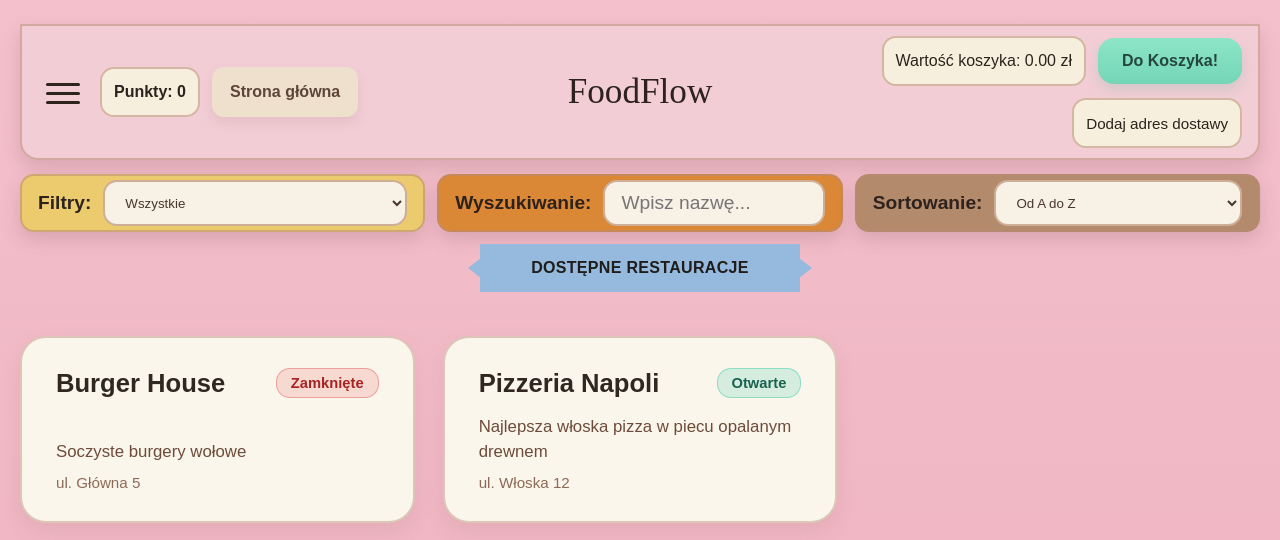
Scenario: HomeScreen Component › filters restaurants by status
Check: the text "Pizzeria Napoli" is shown, box [479,368,659,398]
Check: the text "Burger House" is shown, box [56,368,225,398]
Select "Tylko otwarte" in the dropdown next to "Filtry:" at (255, 203), box [103,180,407,226]
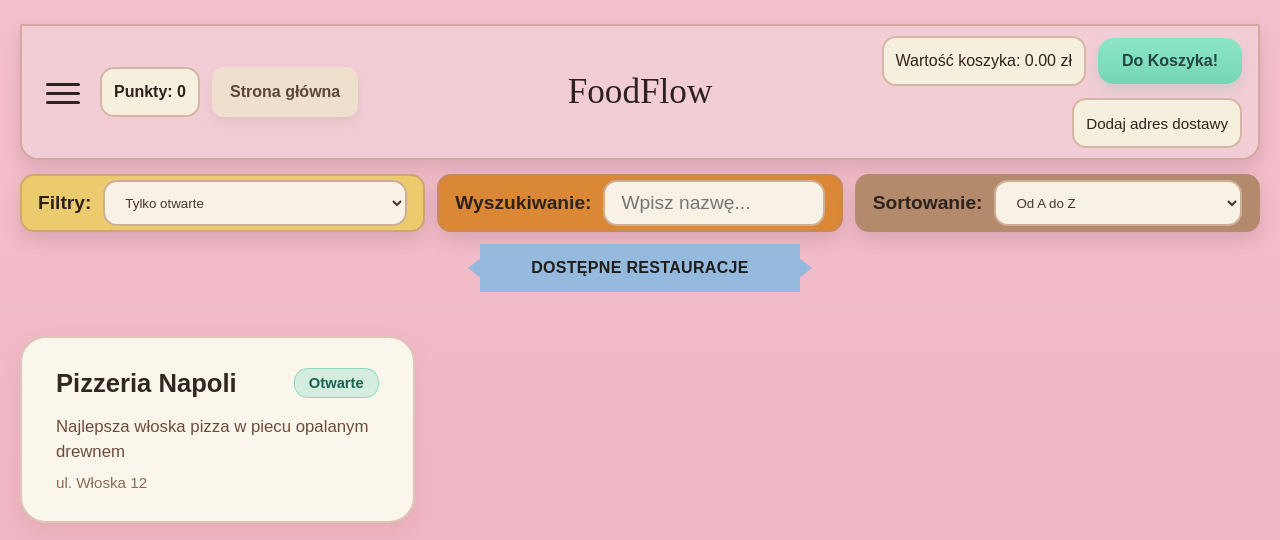
Check: the text "Pizzeria Napoli" is shown, box [56,368,237,398]
Check: the button "Burger House" is gone
